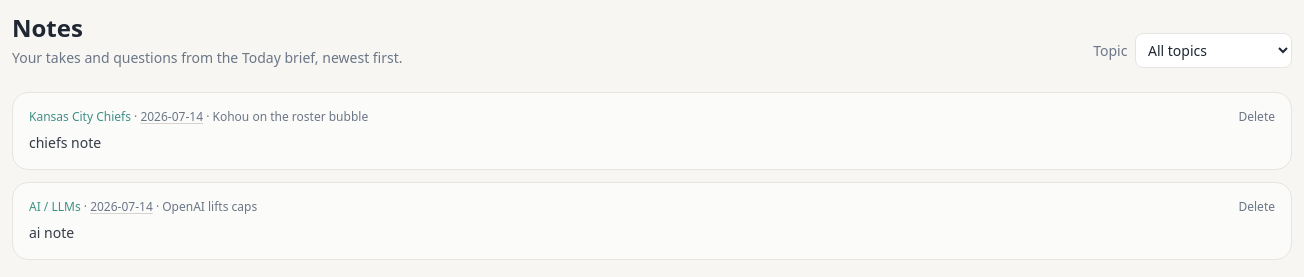
it: Notes (browse page) › deletes a note optimistically and commits after the undo window (FR10)
Expected: the text "chiefs note" is shown, [29,133,101,152]
Step 1. Click the button with aria-label "Delete note 2" → (1257, 117), box [1238,109,1275,125]
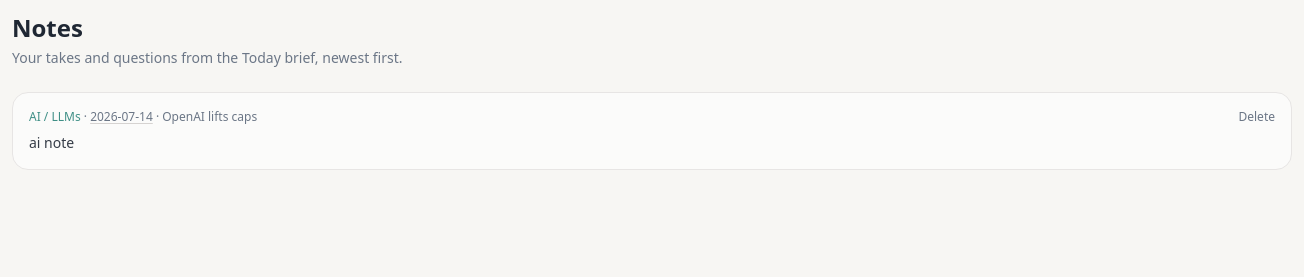
Expected: the text "ai note" is shown, [29,133,74,152]
Expected: the text "chiefs note" is gone
